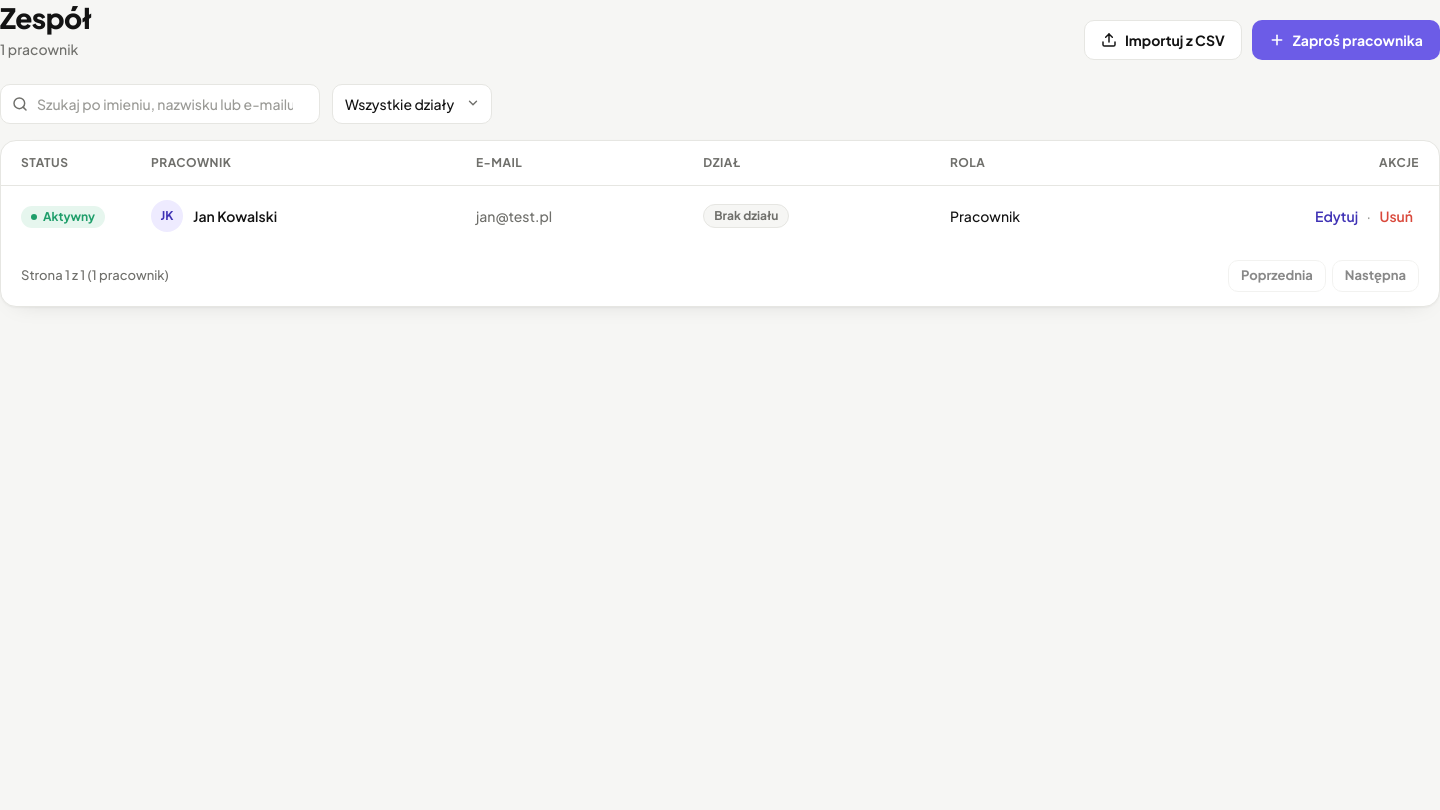
Test: UsersPageClient › ostrzega, gdy e-mail z zaproszeniem nie został wysłany (inviteEmailSent=false)
This screenshot has width=1440, height=810.
Expected: the text "jan@test.pl" is shown, [456,186,683,246]
Step 1. Click the button "Zaproś pracownika" → point(1346, 40), box [1252,20,1439,60]
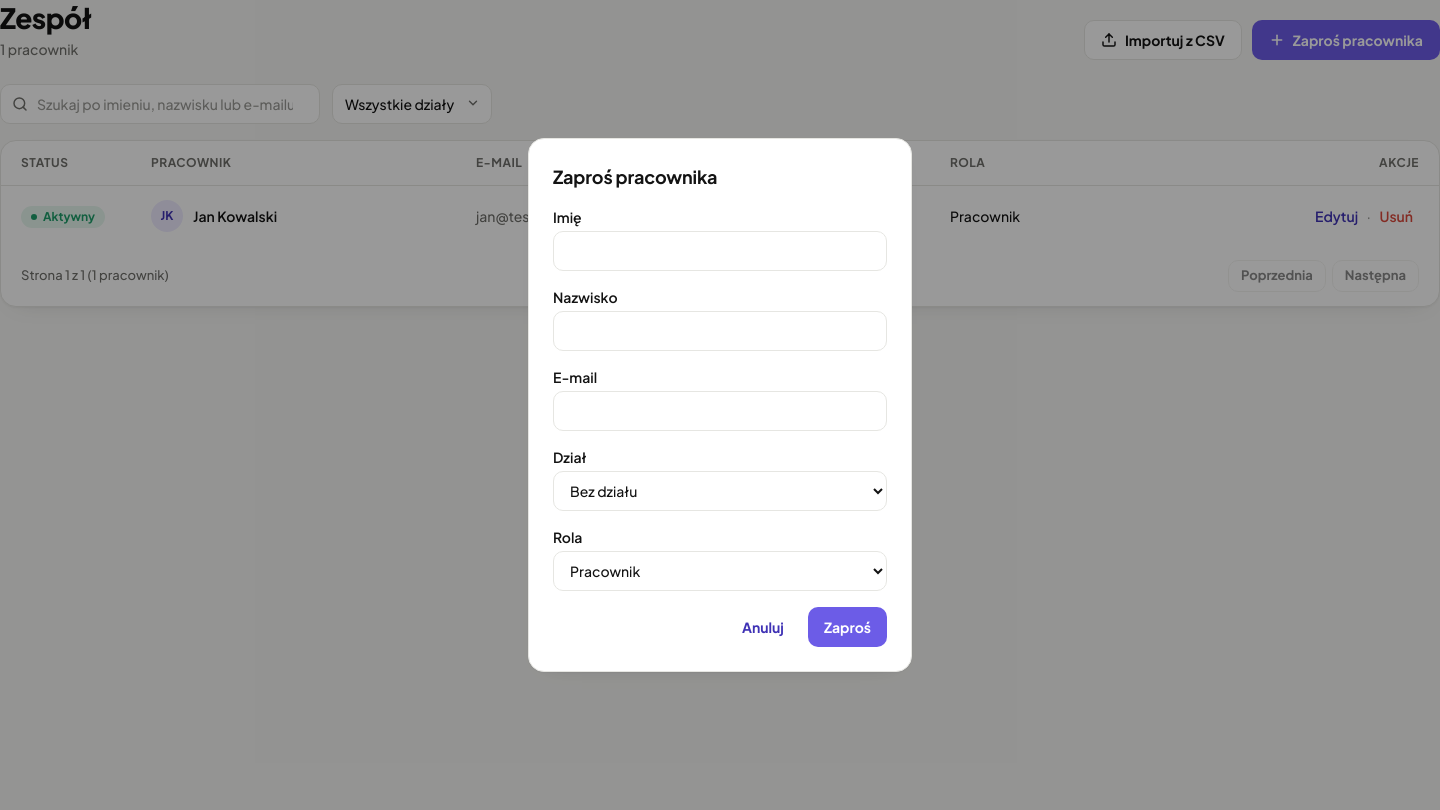
Step 2. Type "Jan" into the field labelled "Imię" → point(720, 251), box [553,231,887,271]
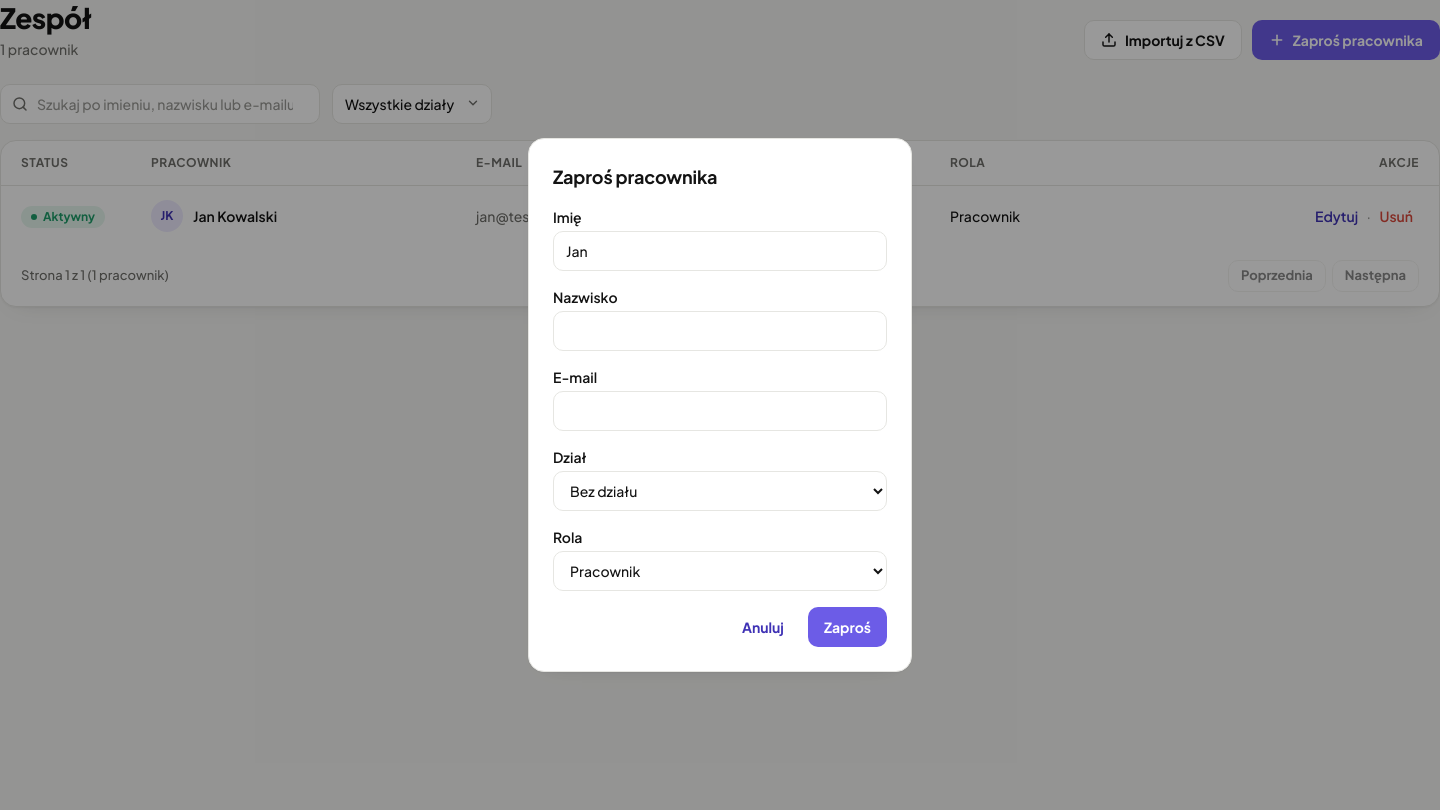
Step 3. Type "K" into the field labelled "Nazwisko" → point(720, 331), box [553,311,887,351]
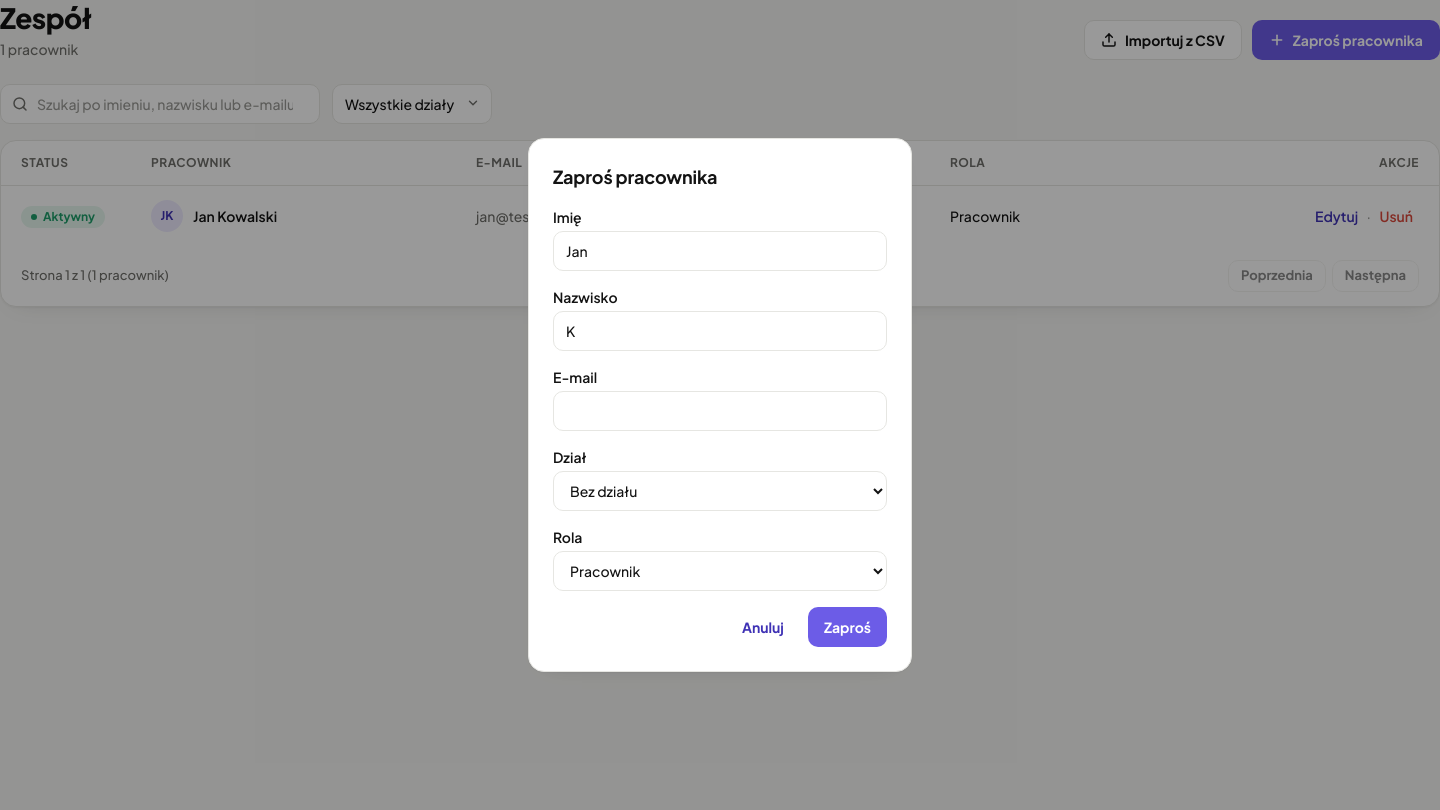
Step 4. Type "zly@test.pl" into the field labelled "E-mail" → point(720, 411), box [553,391,887,431]
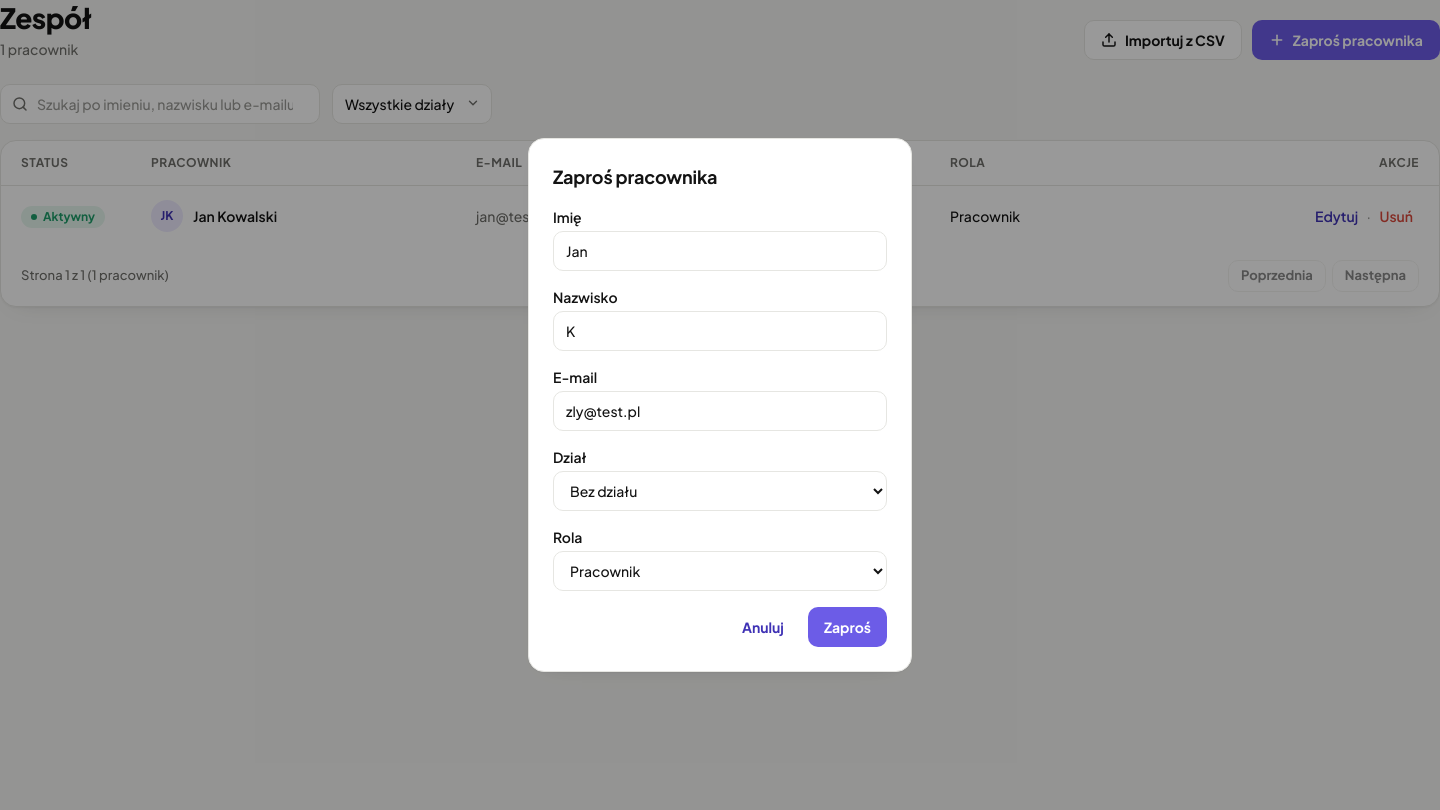
Step 5. Click the button "Zaproś" → point(847, 627), box [808,607,887,647]
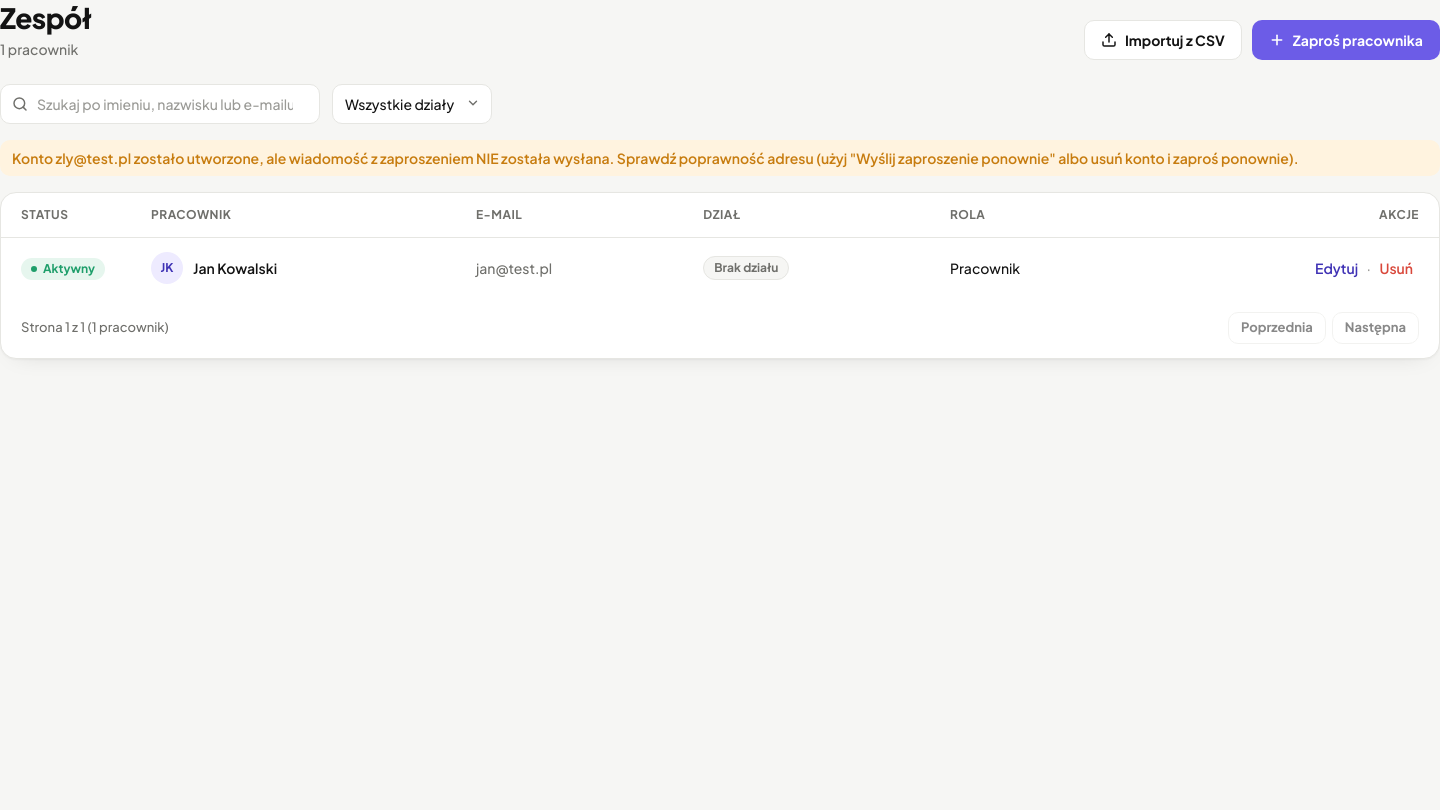
Expected: the message shows "NIE została wysłana", [12,149,1299,167]
